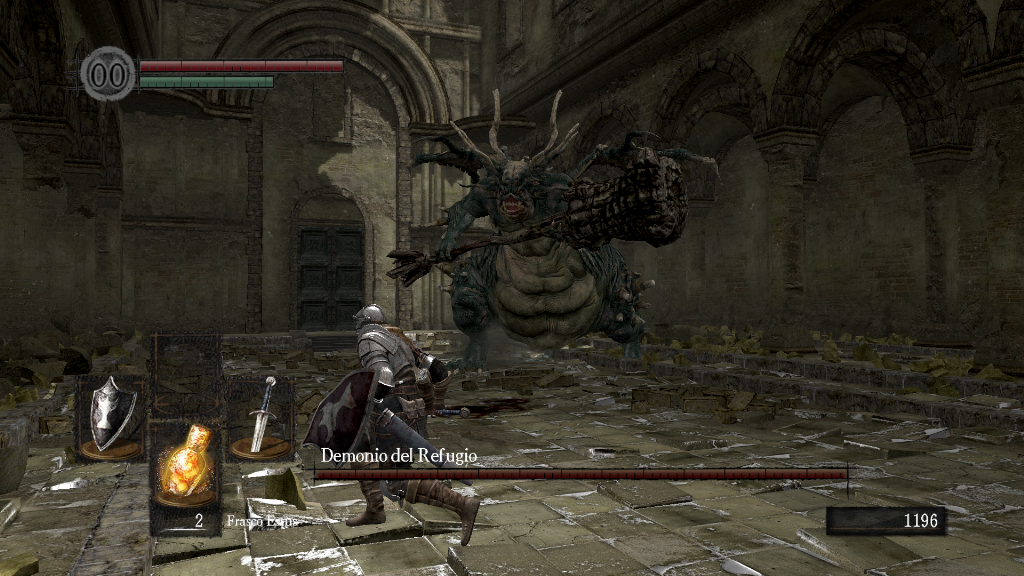asylumDemon: (391, 89, 725, 372)
bossHP: (314, 469, 847, 479)
health: (138, 58, 343, 71)
humanity: (80, 45, 136, 102)
player: (300, 301, 483, 549)
souls: (825, 506, 945, 536)
stamina: (138, 74, 274, 88)
